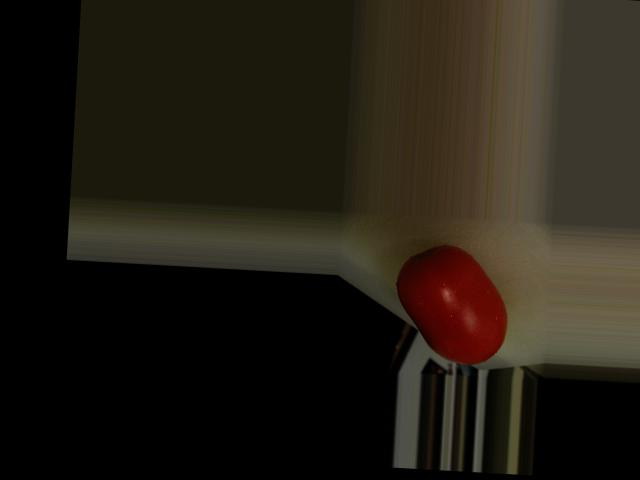tomato: (392, 243, 511, 366)
